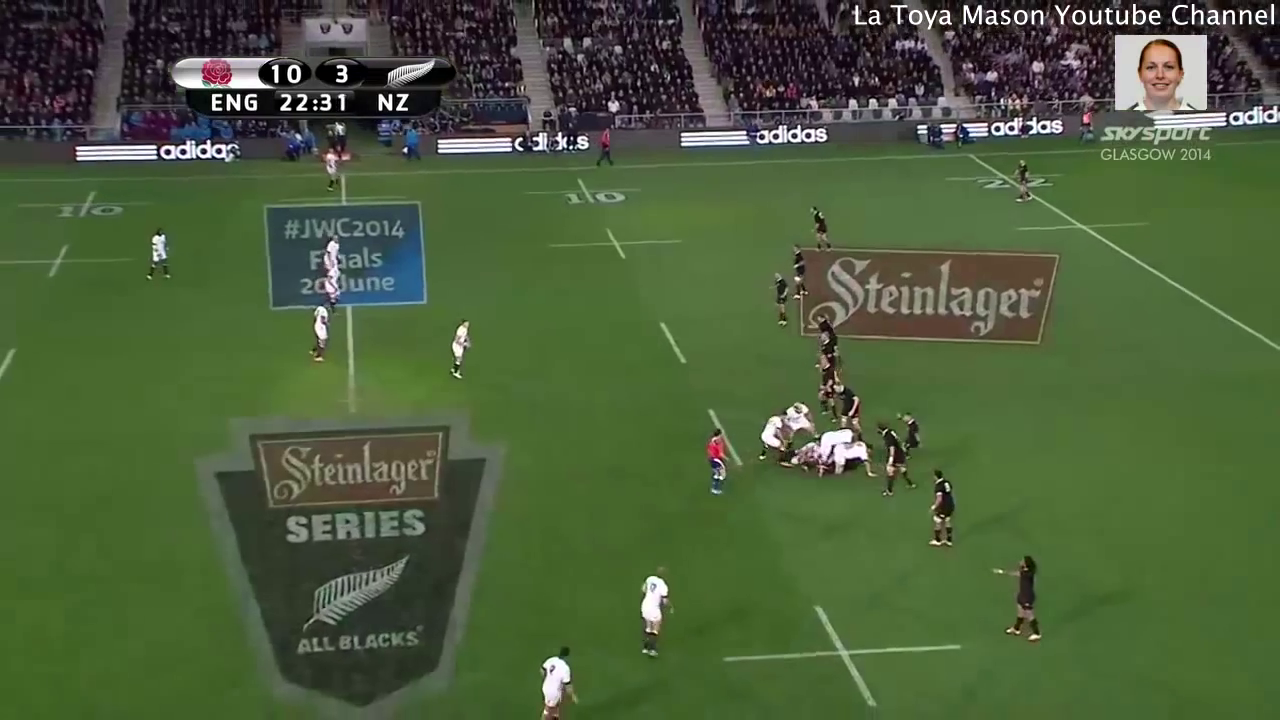10_metre: (721, 601, 969, 716), (543, 225, 690, 266), (1, 243, 135, 285), (1, 184, 150, 220), (525, 176, 649, 211)
player: (989, 552, 1056, 652), (631, 560, 679, 668), (529, 640, 589, 720), (922, 460, 965, 557), (871, 419, 916, 504), (699, 420, 736, 500), (814, 352, 848, 422), (756, 407, 789, 472), (833, 379, 864, 437), (444, 316, 471, 382), (765, 267, 795, 324), (824, 443, 877, 475), (785, 399, 818, 450), (310, 298, 335, 365), (813, 426, 860, 459), (789, 242, 812, 302), (899, 412, 924, 463), (810, 205, 833, 255), (323, 258, 343, 310), (320, 225, 341, 273), (1013, 157, 1033, 207), (322, 146, 342, 192), (816, 330, 836, 370), (816, 313, 833, 334)
ruck: (785, 416, 874, 477)
